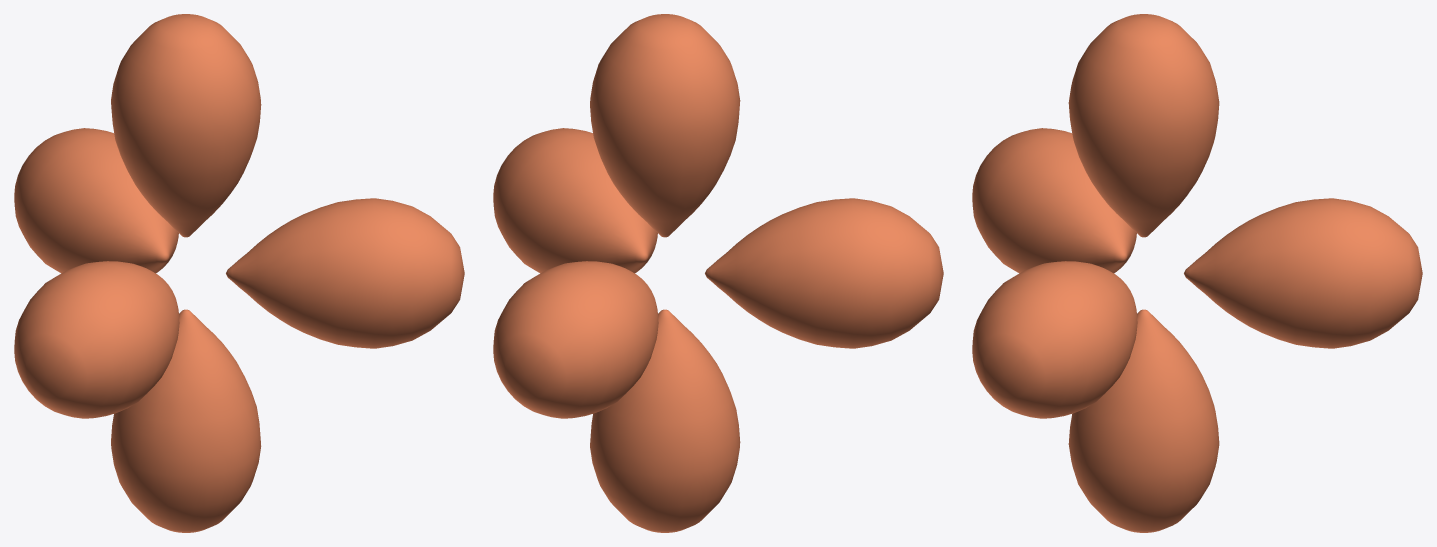
The picture shows the model from 3 angles, left to right: view 1: azimuth 30°, elevation 25°; view 2: azimuth 150°, elevation 25°; view 3: azimuth 270°, elevation 25°; orthographic projection.
Visible parts, largest first — view 1: orbital 2, orbital 4, orbital 5, orbital 3, orbital 1; view 2: orbital 3, orbital 4, orbital 5, orbital 1, orbital 2; view 3: orbital 1, orbital 4, orbital 5, orbital 2, orbital 3.
Part boxes in pixels (x1,y1,x2,y2): orbital 2: (226,198,464,348); orbital 4: (111,14,261,237); orbital 5: (111,309,261,532); orbital 3: (14,261,179,418); orbital 1: (14,128,178,273); orbital 3: (705,198,943,348); orbital 4: (590,14,740,237); orbital 5: (590,309,740,532); orbital 1: (493,261,658,418); orbital 2: (493,128,657,273); orbital 1: (1184,198,1422,348); orbital 4: (1068,14,1219,237); orbital 5: (1068,309,1219,532); orbital 2: (972,261,1137,418); orbital 3: (972,128,1136,273).
Bounding box in the file's own units: 2.66 × 2.96 × 2.39.
